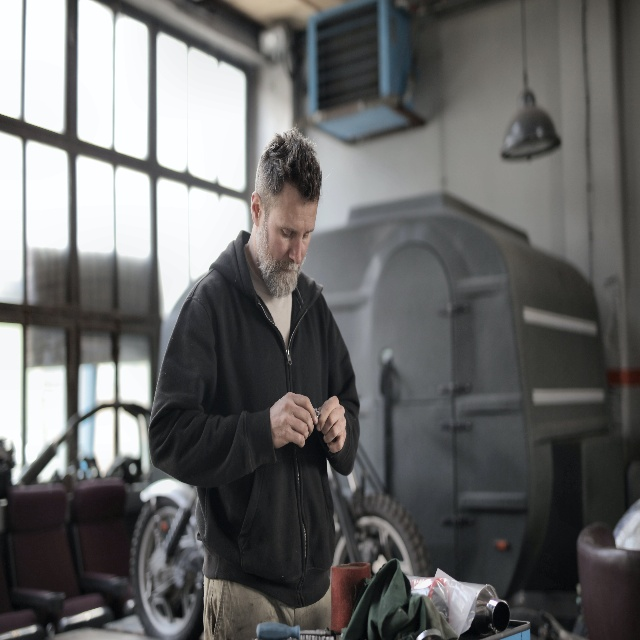Sin_guantes: (270, 392, 318, 450), (317, 394, 347, 453)
